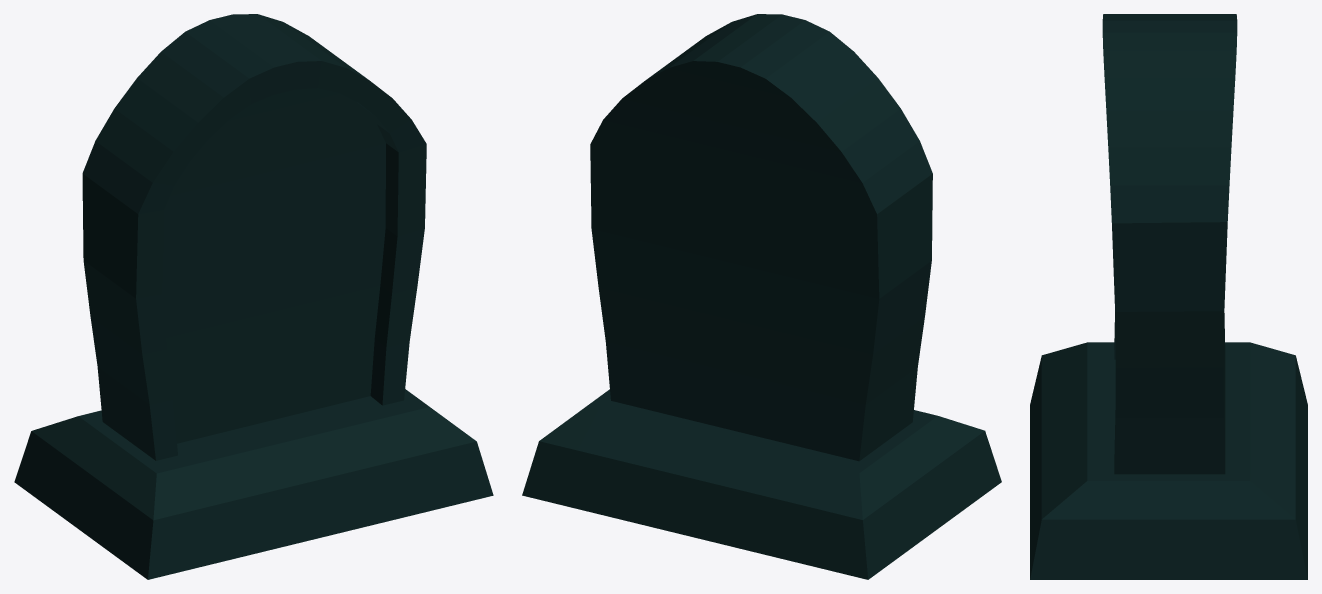
Rendered from gravestone_008_stone_0_lev1.glb.
The picture shows the model from 3 angles, left to right: view 1: azimuth 30°, elevation 25°; view 2: azimuth 150°, elevation 25°; view 3: azimuth 270°, elevation 25°; orthographic projection. The views are drawn at different scales.
Visible parts, largest first — view 1: gravestone_008_stone_0_lev1; view 2: gravestone_008_stone_0_lev1; view 3: gravestone_008_stone_0_lev1.
Boxes of the visible parts, x1,y1,x2,y2 form: gravestone_008_stone_0_lev1: (14,14,493,579); gravestone_008_stone_0_lev1: (522,14,1001,579); gravestone_008_stone_0_lev1: (1030,14,1307,579).
Size of the model in its own units: 0.3934 by 0.4867 by 0.2632.
